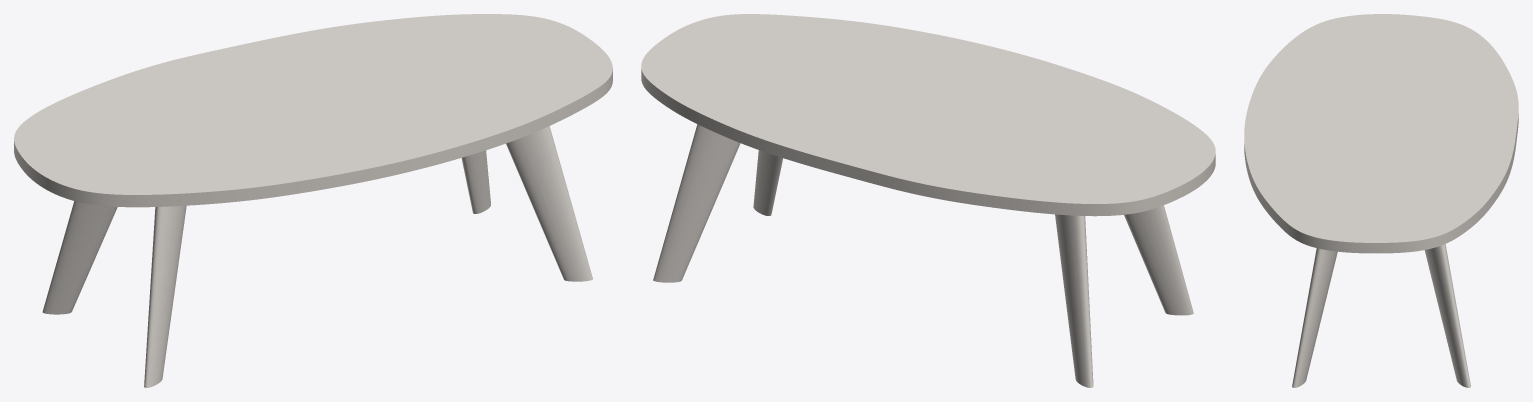
Rendered from pearlwhite_danish_standard_ferdinantwalnut.glb.
3 renders of one model, left to right at view 1: azimuth 30°, elevation 25°; view 2: azimuth 150°, elevation 25°; view 3: azimuth 270°, elevation 25°, orthographic. The views are drawn at different scales.
Visible parts, largest first — view 1: standard_danish, ferdinandwalnut; view 2: standard_danish, ferdinandwalnut; view 3: standard_danish, ferdinandwalnut.
Boxes of the visible parts, x1,y1,x2,y2 form: standard_danish: [14, 14, 612, 207]; ferdinandwalnut: [42, 126, 592, 387]; standard_danish: [641, 14, 1215, 216]; ferdinandwalnut: [653, 124, 1193, 387]; standard_danish: [1244, 14, 1518, 253]; ferdinandwalnut: [1292, 244, 1470, 387].
Size of the model in its own units: 7.5 by 2.51 by 3.8.
Materials: 1 (1 with a texture image).
